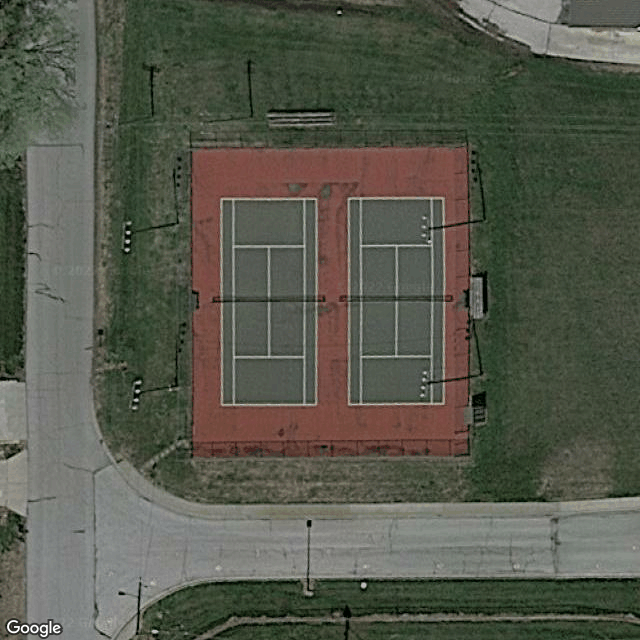Court: (345, 196, 446, 406), (218, 195, 318, 407)
